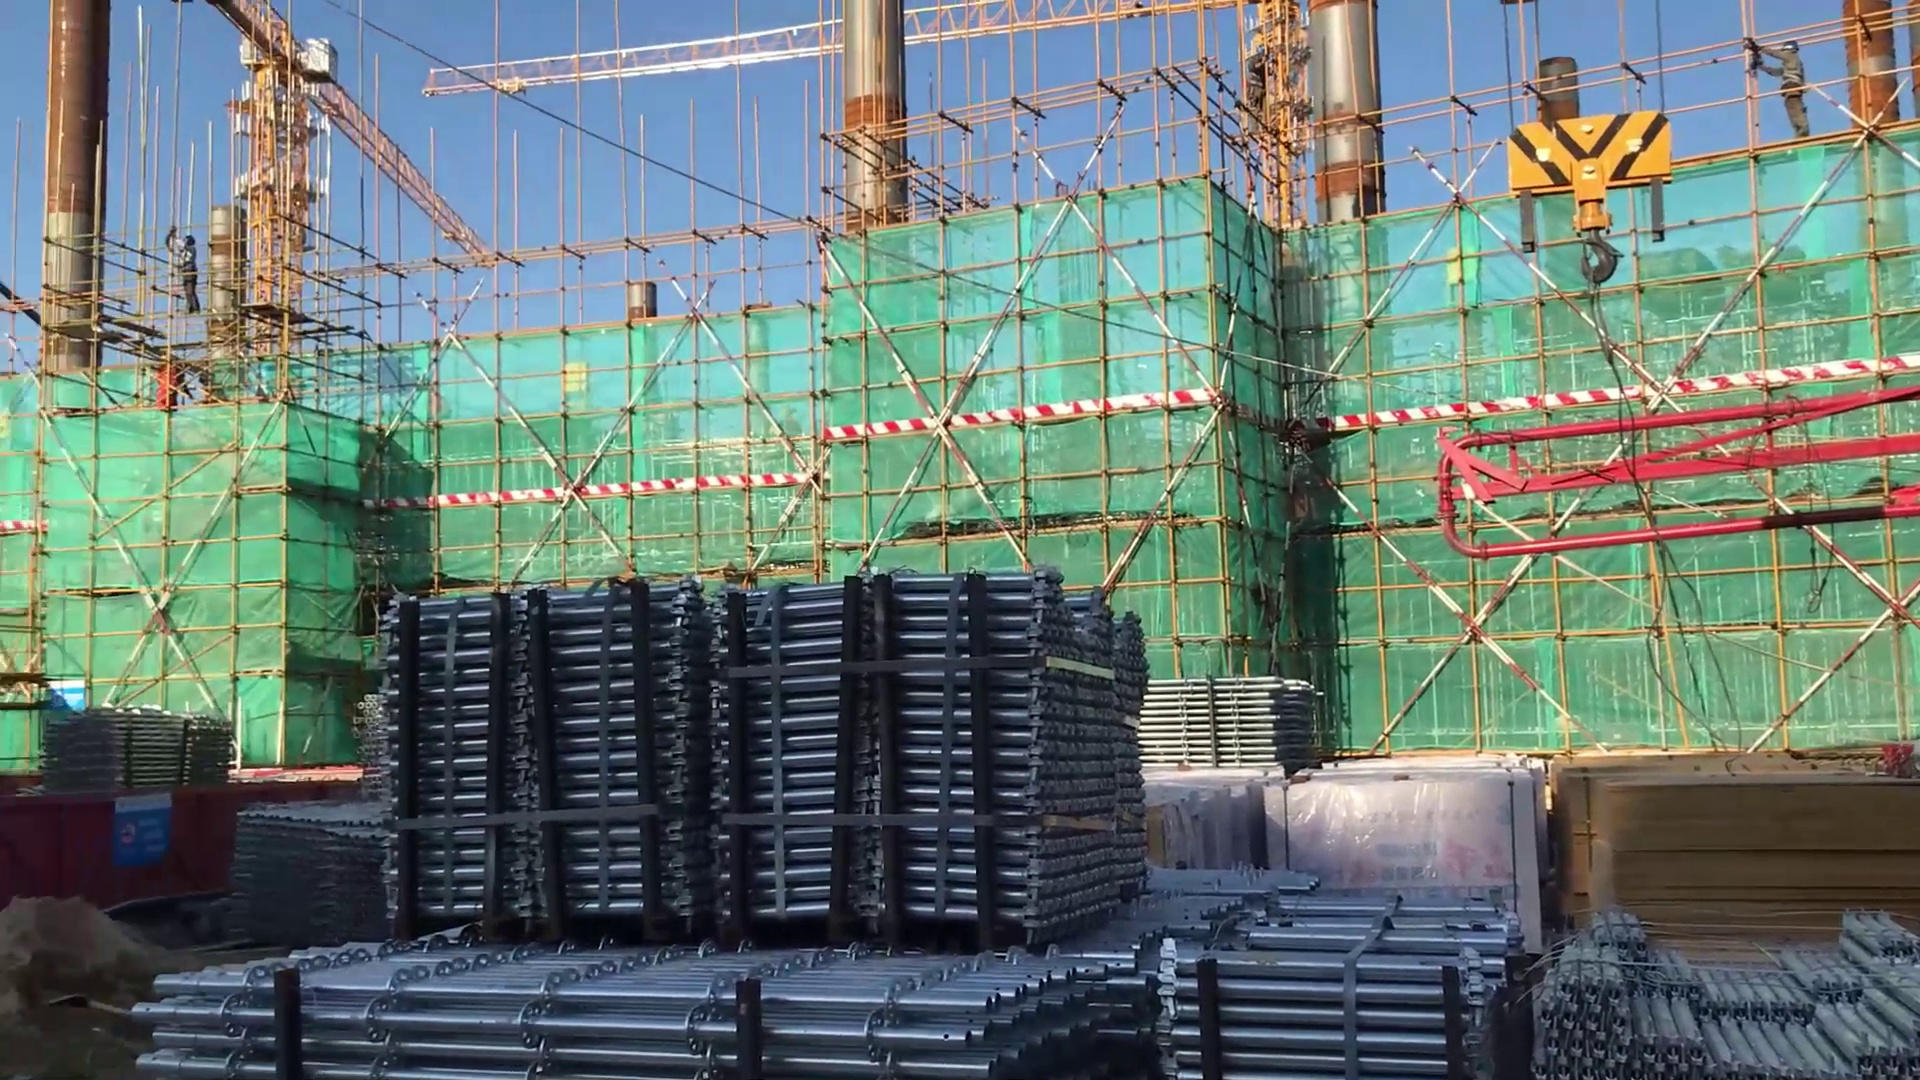board: (1548, 759, 1920, 930)
fence: (8, 787, 247, 916)
helmet: (182, 232, 198, 247)
hook: (1484, 101, 1695, 326)
person: (1734, 25, 1821, 150), (179, 224, 201, 321)
scaffold: (386, 585, 1143, 926), (86, 931, 1532, 1080), (1152, 857, 1508, 939), (34, 705, 237, 785), (1147, 682, 1330, 766)
slogan: (109, 789, 177, 876), (36, 676, 98, 732)
